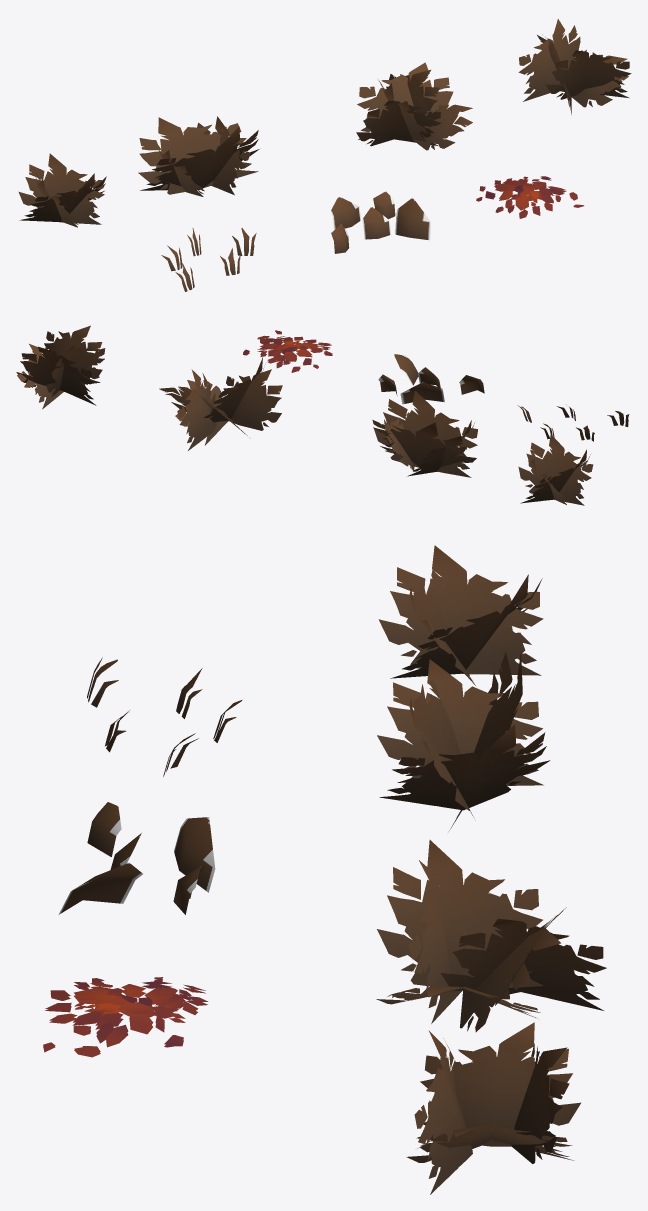
File: foliage.FBX
3 views of the same model, one above another, from view 1: azimuth 30°, elevation 25°; view 2: azimuth 150°, elevation 25°; view 3: azimuth 270°, elevation 25° (orthographic). The views are drawn at different scales.
Visible parts, largest first — view 1: bush_2, bush_3, bush_4, bush_1, grass_2, leaveclump_1, grass_1; view 2: bush_2, bush_3, bush_4, bush_1, grass_2, leaveclump_1, grass_1; view 3: bush_3, bush_2, bush_4, bush_1, leaveclump_1, grass_2, grass_1.
Part boxes in pixels (left/top/right/bottom): bush_2: left=138, top=116, right=259, bottom=196; bush_3: left=356, top=62, right=472, bottom=150; bush_4: left=518, top=19, right=631, bottom=114; bush_1: left=18, top=153, right=106, bottom=227; grass_2: left=330, top=191, right=431, bottom=253; leaveclump_1: left=476, top=176, right=583, bottom=218; grass_1: left=161, top=228, right=256, bottom=291; bush_2: left=372, top=390, right=477, bottom=477; bush_3: left=159, top=357, right=282, bottom=450; bush_4: left=16, top=325, right=105, bottom=409; bush_1: left=518, top=434, right=593, bottom=505; grass_2: left=378, top=354, right=484, bottom=404; leaveclump_1: left=243, top=330, right=332, bottom=372; grass_1: left=517, top=405, right=629, bottom=441; bush_3: left=376, top=840, right=606, bottom=1032; bush_2: left=377, top=651, right=550, bottom=830; bush_4: left=406, top=1022, right=580, bottom=1194; bush_1: left=378, top=545, right=543, bottom=685; leaveclump_1: left=43, top=977, right=208, bottom=1057; grass_2: left=58, top=802, right=215, bottom=914; grass_1: left=87, top=657, right=242, bottom=776.
Size of the model in its own units: 275 by 37.21 by 120.
